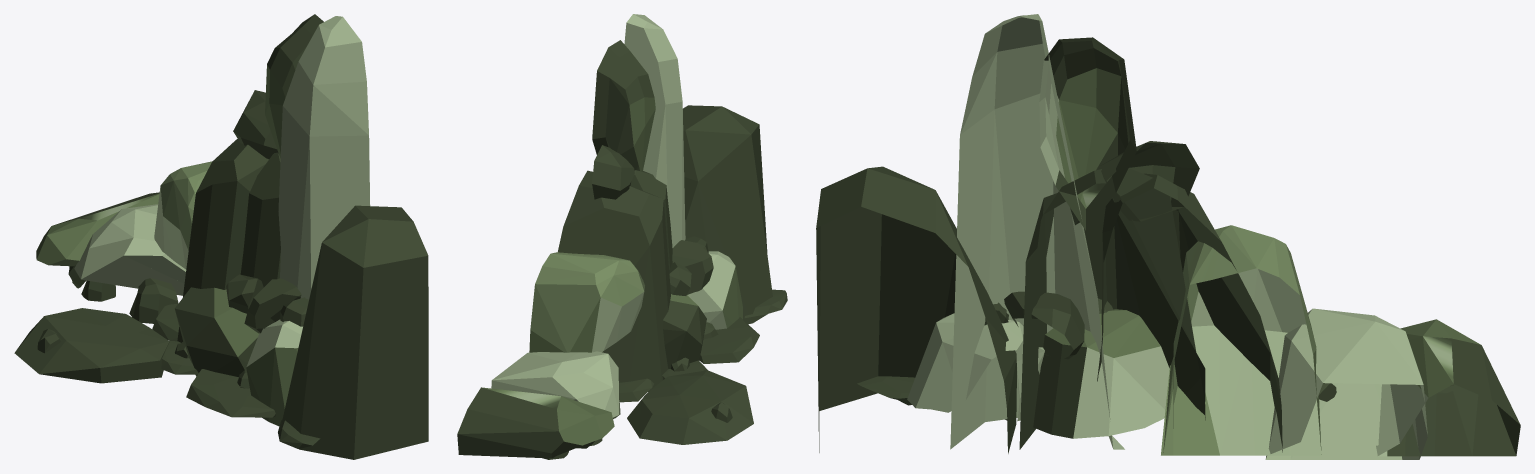
Rendered from EA_Swamp_Wall_02a.glb.
The picture shows the model from 3 angles, left to right: view 1: azimuth 30°, elevation 25°; view 2: azimuth 150°, elevation 25°; view 3: azimuth 270°, elevation 25°; orthographic projection. The views are drawn at different scales.
Visible parts, largest first — view 1: EA_Swamp_Wall_02a; view 2: EA_Swamp_Wall_02a; view 3: EA_Swamp_Wall_02a.
Boxes of the visible parts, box(x1,y1,x2,y2) form: EA_Swamp_Wall_02a: box(14, 14, 428, 459); EA_Swamp_Wall_02a: box(457, 14, 787, 459); EA_Swamp_Wall_02a: box(816, 14, 1520, 459).
Bounding box in the file's own units: 8.59 × 11.66 × 16.74.
Materials: 1 (1 with a texture image).
